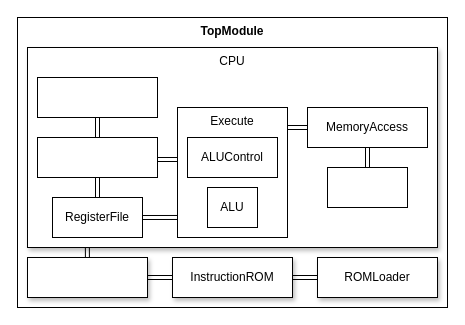
The diagram is 465 pixels wide and 325 high, and some of its shapes have lost their labels. Here are the shapes that lost their labels. From the top down, the centre of each, then its label:
pixel 97 97: InstructionFetch
pixel 97 157: InstructionDecode
pixel 367 187: WriteBack
pixel 88 278: Memory
